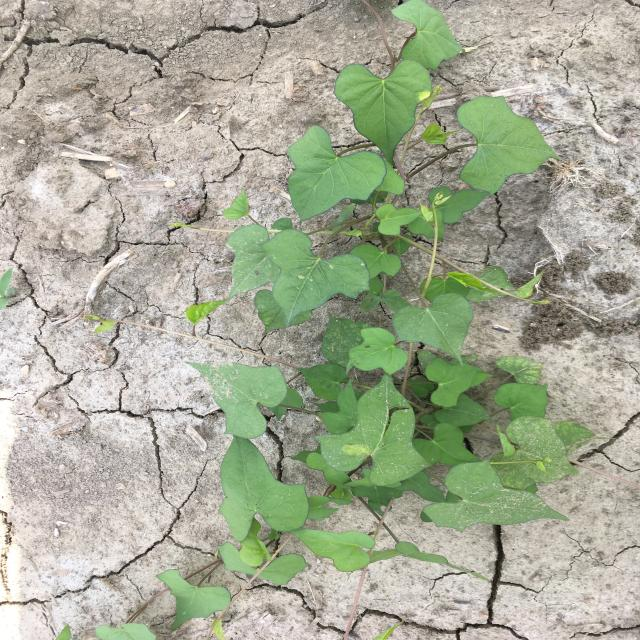MorningGlory: (54, 1, 612, 640)
